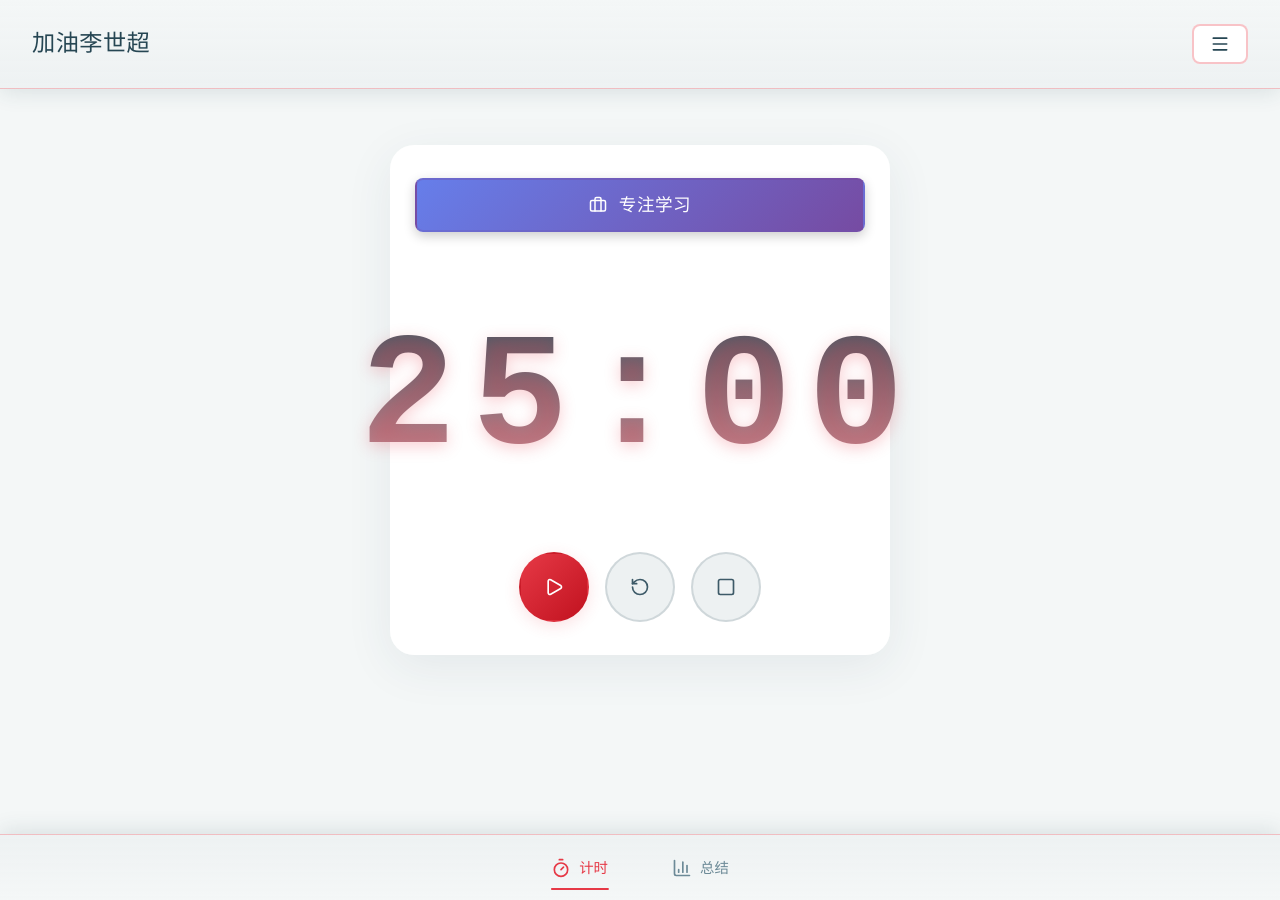
it: 番茄钟 App › 没有任何记录时显示空状态而不是崩溃
This screenshot has width=1280, height=900.
Click the button with aria-label "Stats view".
click(700, 868)  # box [652, 847, 749, 888]
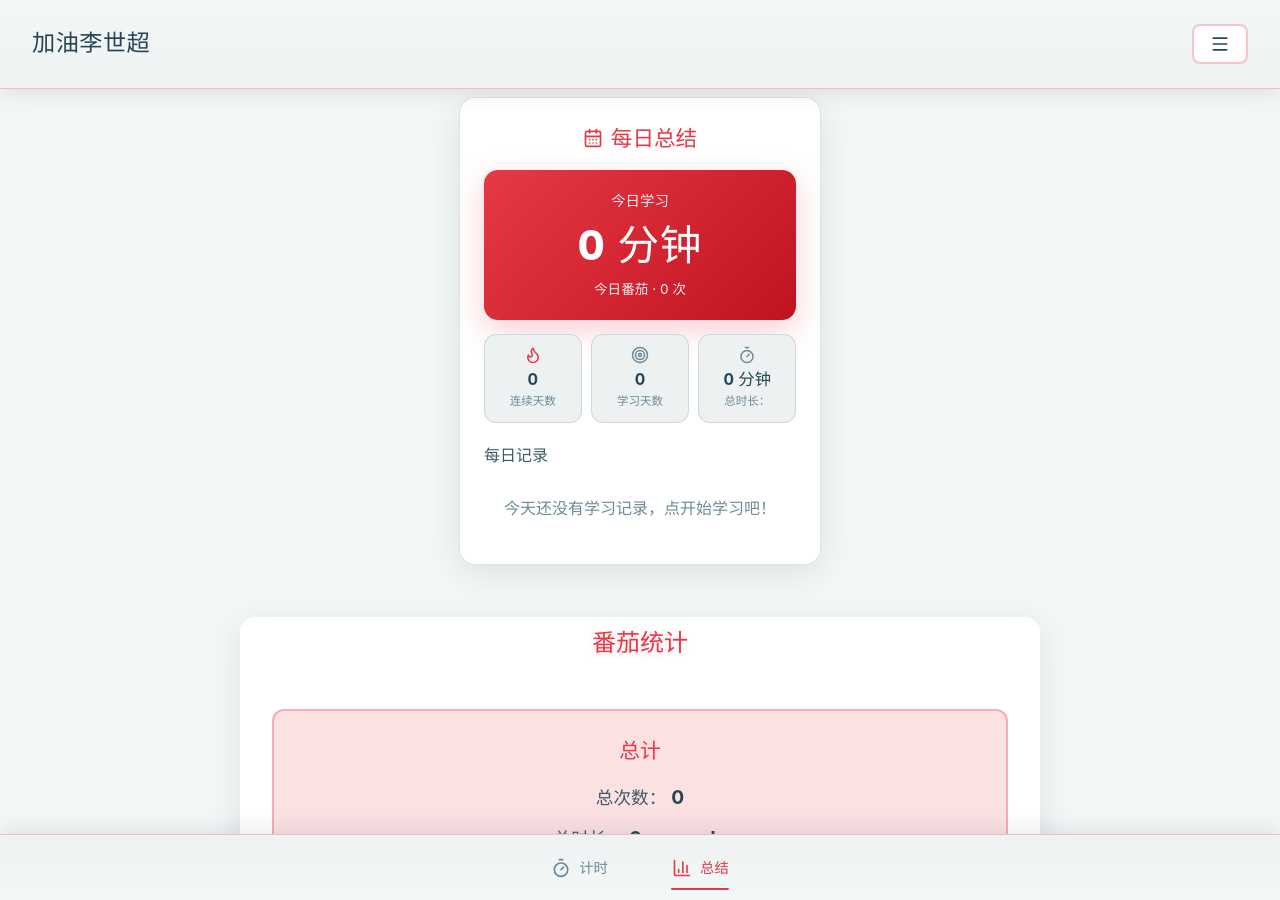
Result: the heading "每日总结" is shown at [583, 125, 697, 151]
Result: the text "0 分钟" below "今日学习" is shown at [578, 220, 702, 270]
Result: the text "今天还没有学习记录，点开始学习吧！" is shown at [504, 498, 776, 518]
